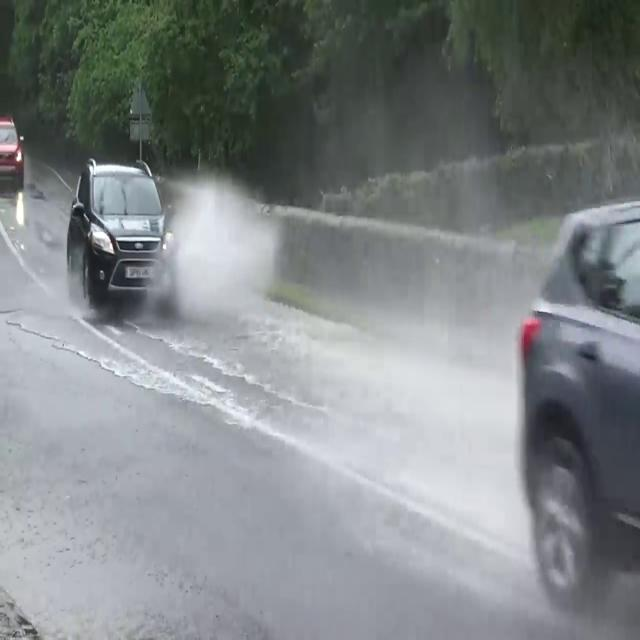license-plate-annotation: (119, 262, 162, 282)
